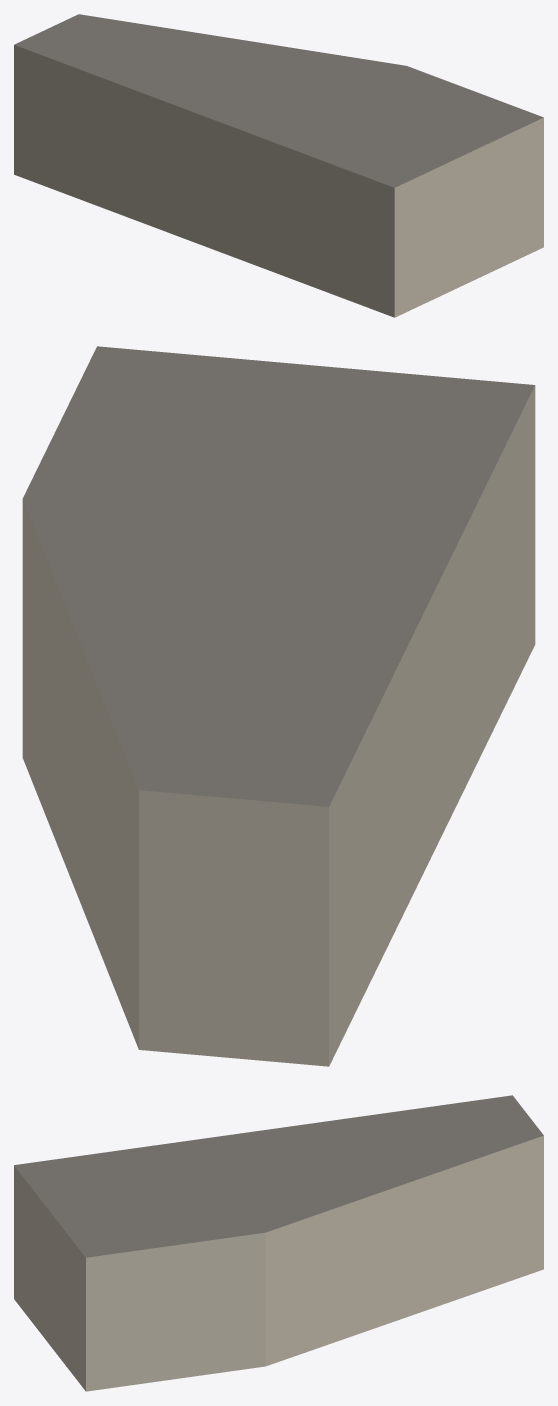
3 renders of one model, top to bottom at view 1: azimuth 30°, elevation 25°; view 2: azimuth 150°, elevation 25°; view 3: azimuth 270°, elevation 25°, orthographic. The views are drawn at different scales.
Parts seen in each view (by area): view 1: HP-w985832362; view 2: HP-w985832362; view 3: HP-w985832362.
Part boxes in pixels (x1,y1,x2,y2): HP-w985832362: [14, 14, 543, 317]; HP-w985832362: [22, 346, 535, 1066]; HP-w985832362: [14, 1095, 543, 1391].
Size of the model in its own units: 46.85 by 18 by 64.58.
